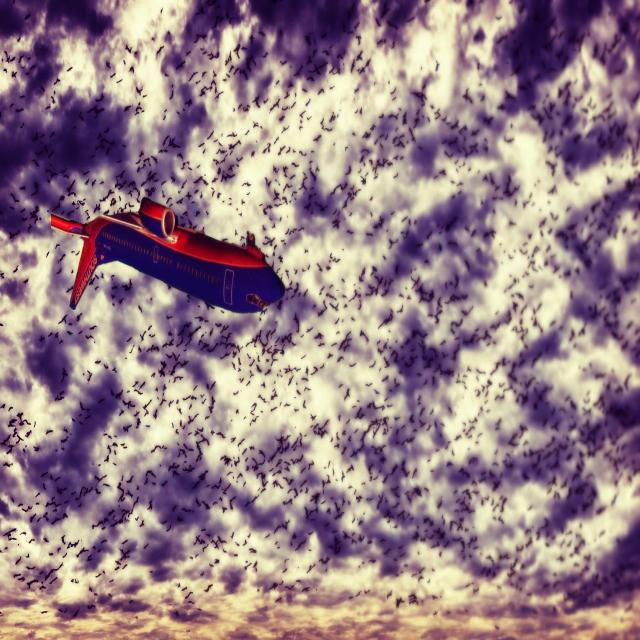airplane: (49, 196, 286, 315)
